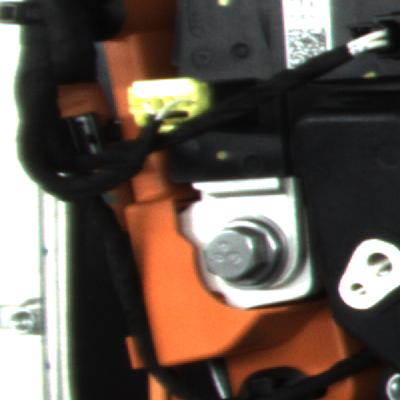nut_b: (200, 206, 301, 289)
